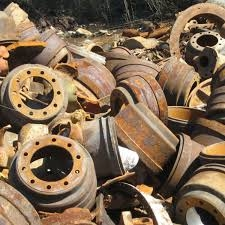metal: (6, 129, 99, 224), (108, 96, 179, 169), (1, 61, 73, 125), (108, 64, 170, 137), (153, 129, 203, 200), (153, 50, 205, 118), (170, 161, 225, 225), (22, 27, 78, 73), (180, 27, 225, 68)
